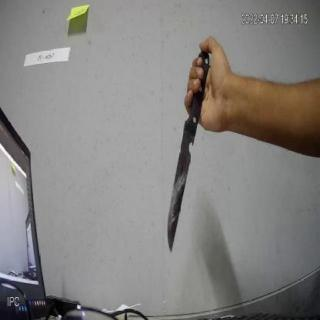knife: (166, 52, 216, 252)
